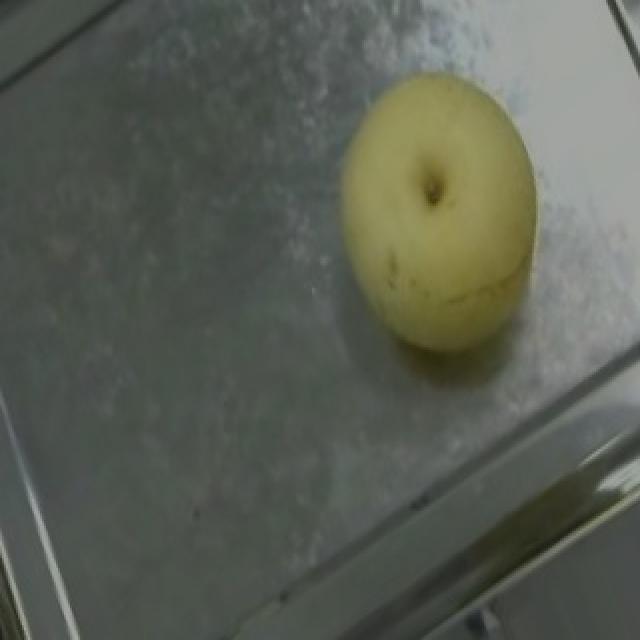Fruit: (286, 27, 594, 397)
